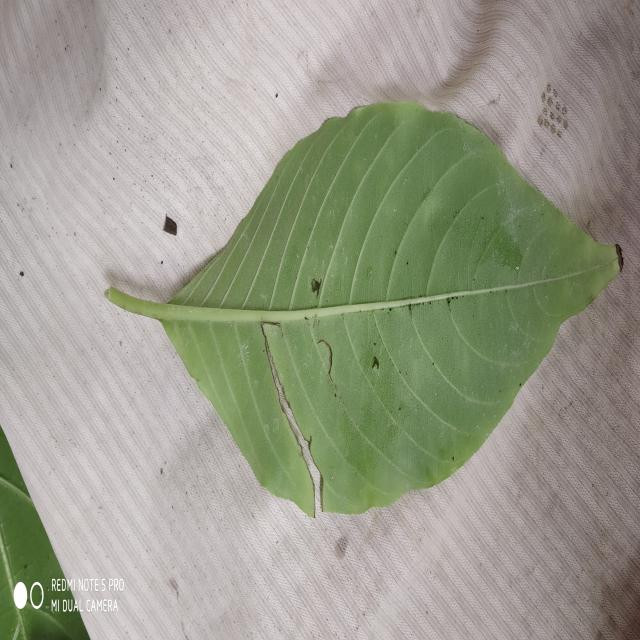leaf spot: (0, 0, 640, 638), (106, 102, 622, 515)
